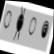correct: (39, 19, 50, 40)
not correct: (12, 5, 26, 43)
